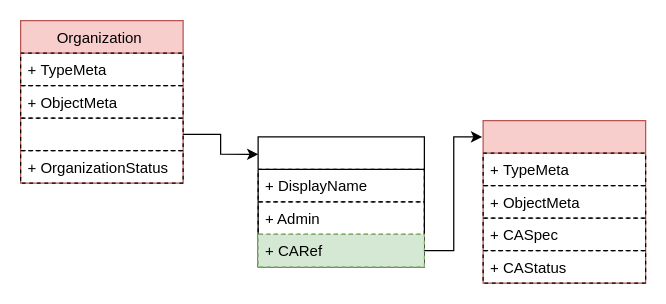
Some shapes in this 666 by 304 pixel diagram are drawn without their labels. Here are the shapes that lost their labels. From the top down, the box of each, then its label:
(19, 117, 183, 151): + OrganizationSpec
(257, 136, 424, 267): OrganizationSpec
(482, 119, 646, 283): CA
